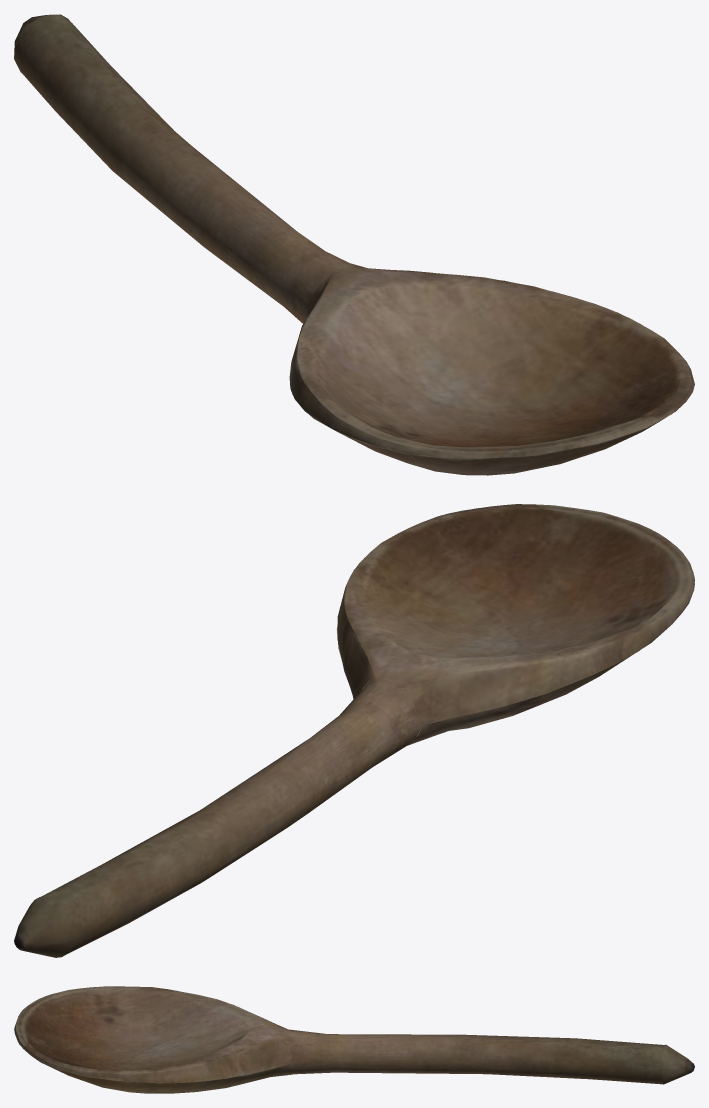
File: spoon.glb
3 renders of one model, top to bottom at view 1: azimuth 30°, elevation 25°; view 2: azimuth 150°, elevation 25°; view 3: azimuth 270°, elevation 25°, orthographic. The views are drawn at different scales.
Parts seen in each view (by area): view 1: wooden_spoon; view 2: wooden_spoon; view 3: wooden_spoon.
Boxes of the visible parts, bbox=[...] form: wooden_spoon: bbox=[14, 14, 694, 475]; wooden_spoon: bbox=[14, 504, 694, 957]; wooden_spoon: bbox=[14, 986, 694, 1093].
Bounding box in the file's own units: 0.0867 × 0.0251 × 0.2778.
1 material, 1 textured.
